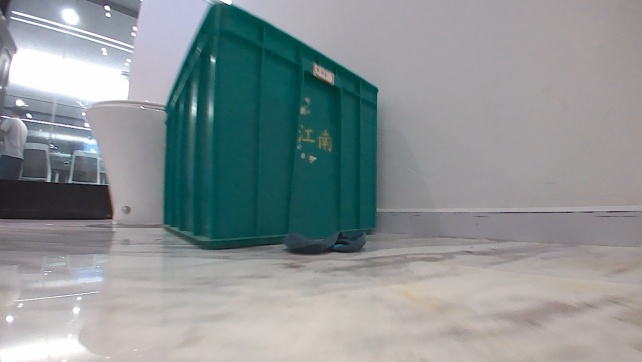socks: (281, 228, 370, 256)
toilet: (80, 97, 166, 228)
